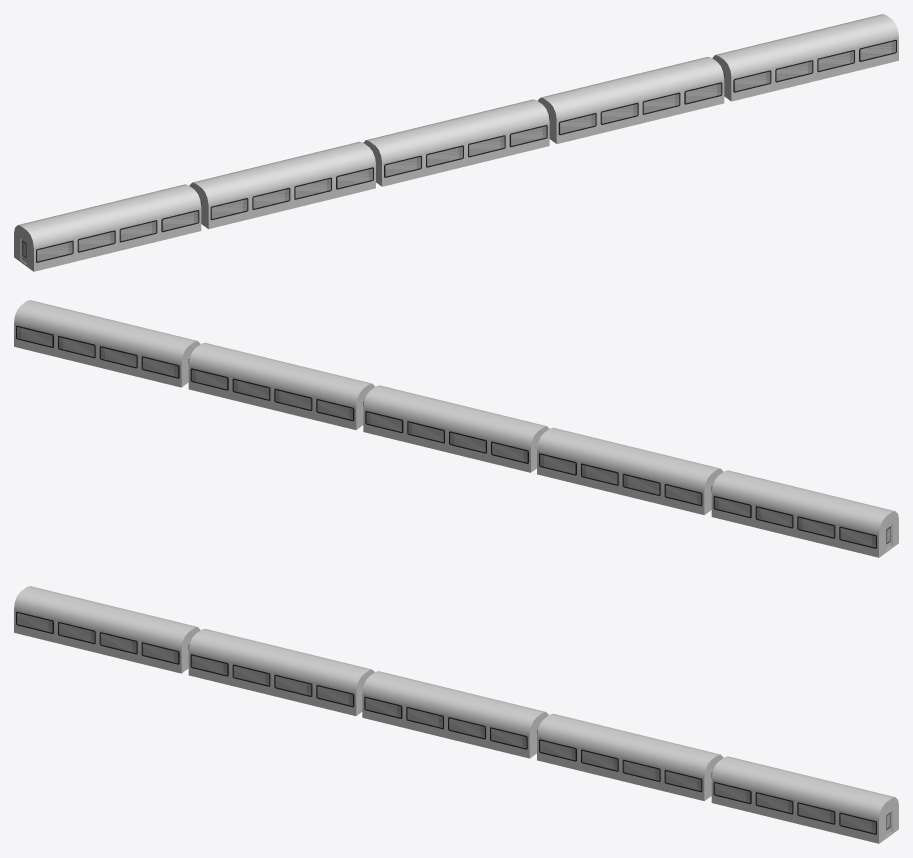
File: Train.fbx
3 renders of one model, top to bottom at view 1: azimuth 30°, elevation 25°; view 2: azimuth 150°, elevation 25°; view 3: azimuth 330°, elevation 25°, orthographic.
Parts seen in each view (by area): view 1: Train; view 2: Train; view 3: Train.
Boxes of the visible parts, box(x1,y1,x2,y2) form: Train: box(14, 14, 898, 271); Train: box(14, 300, 898, 557); Train: box(14, 586, 898, 843).
Size of the model in its own units: 14970 by 600 by 595.
